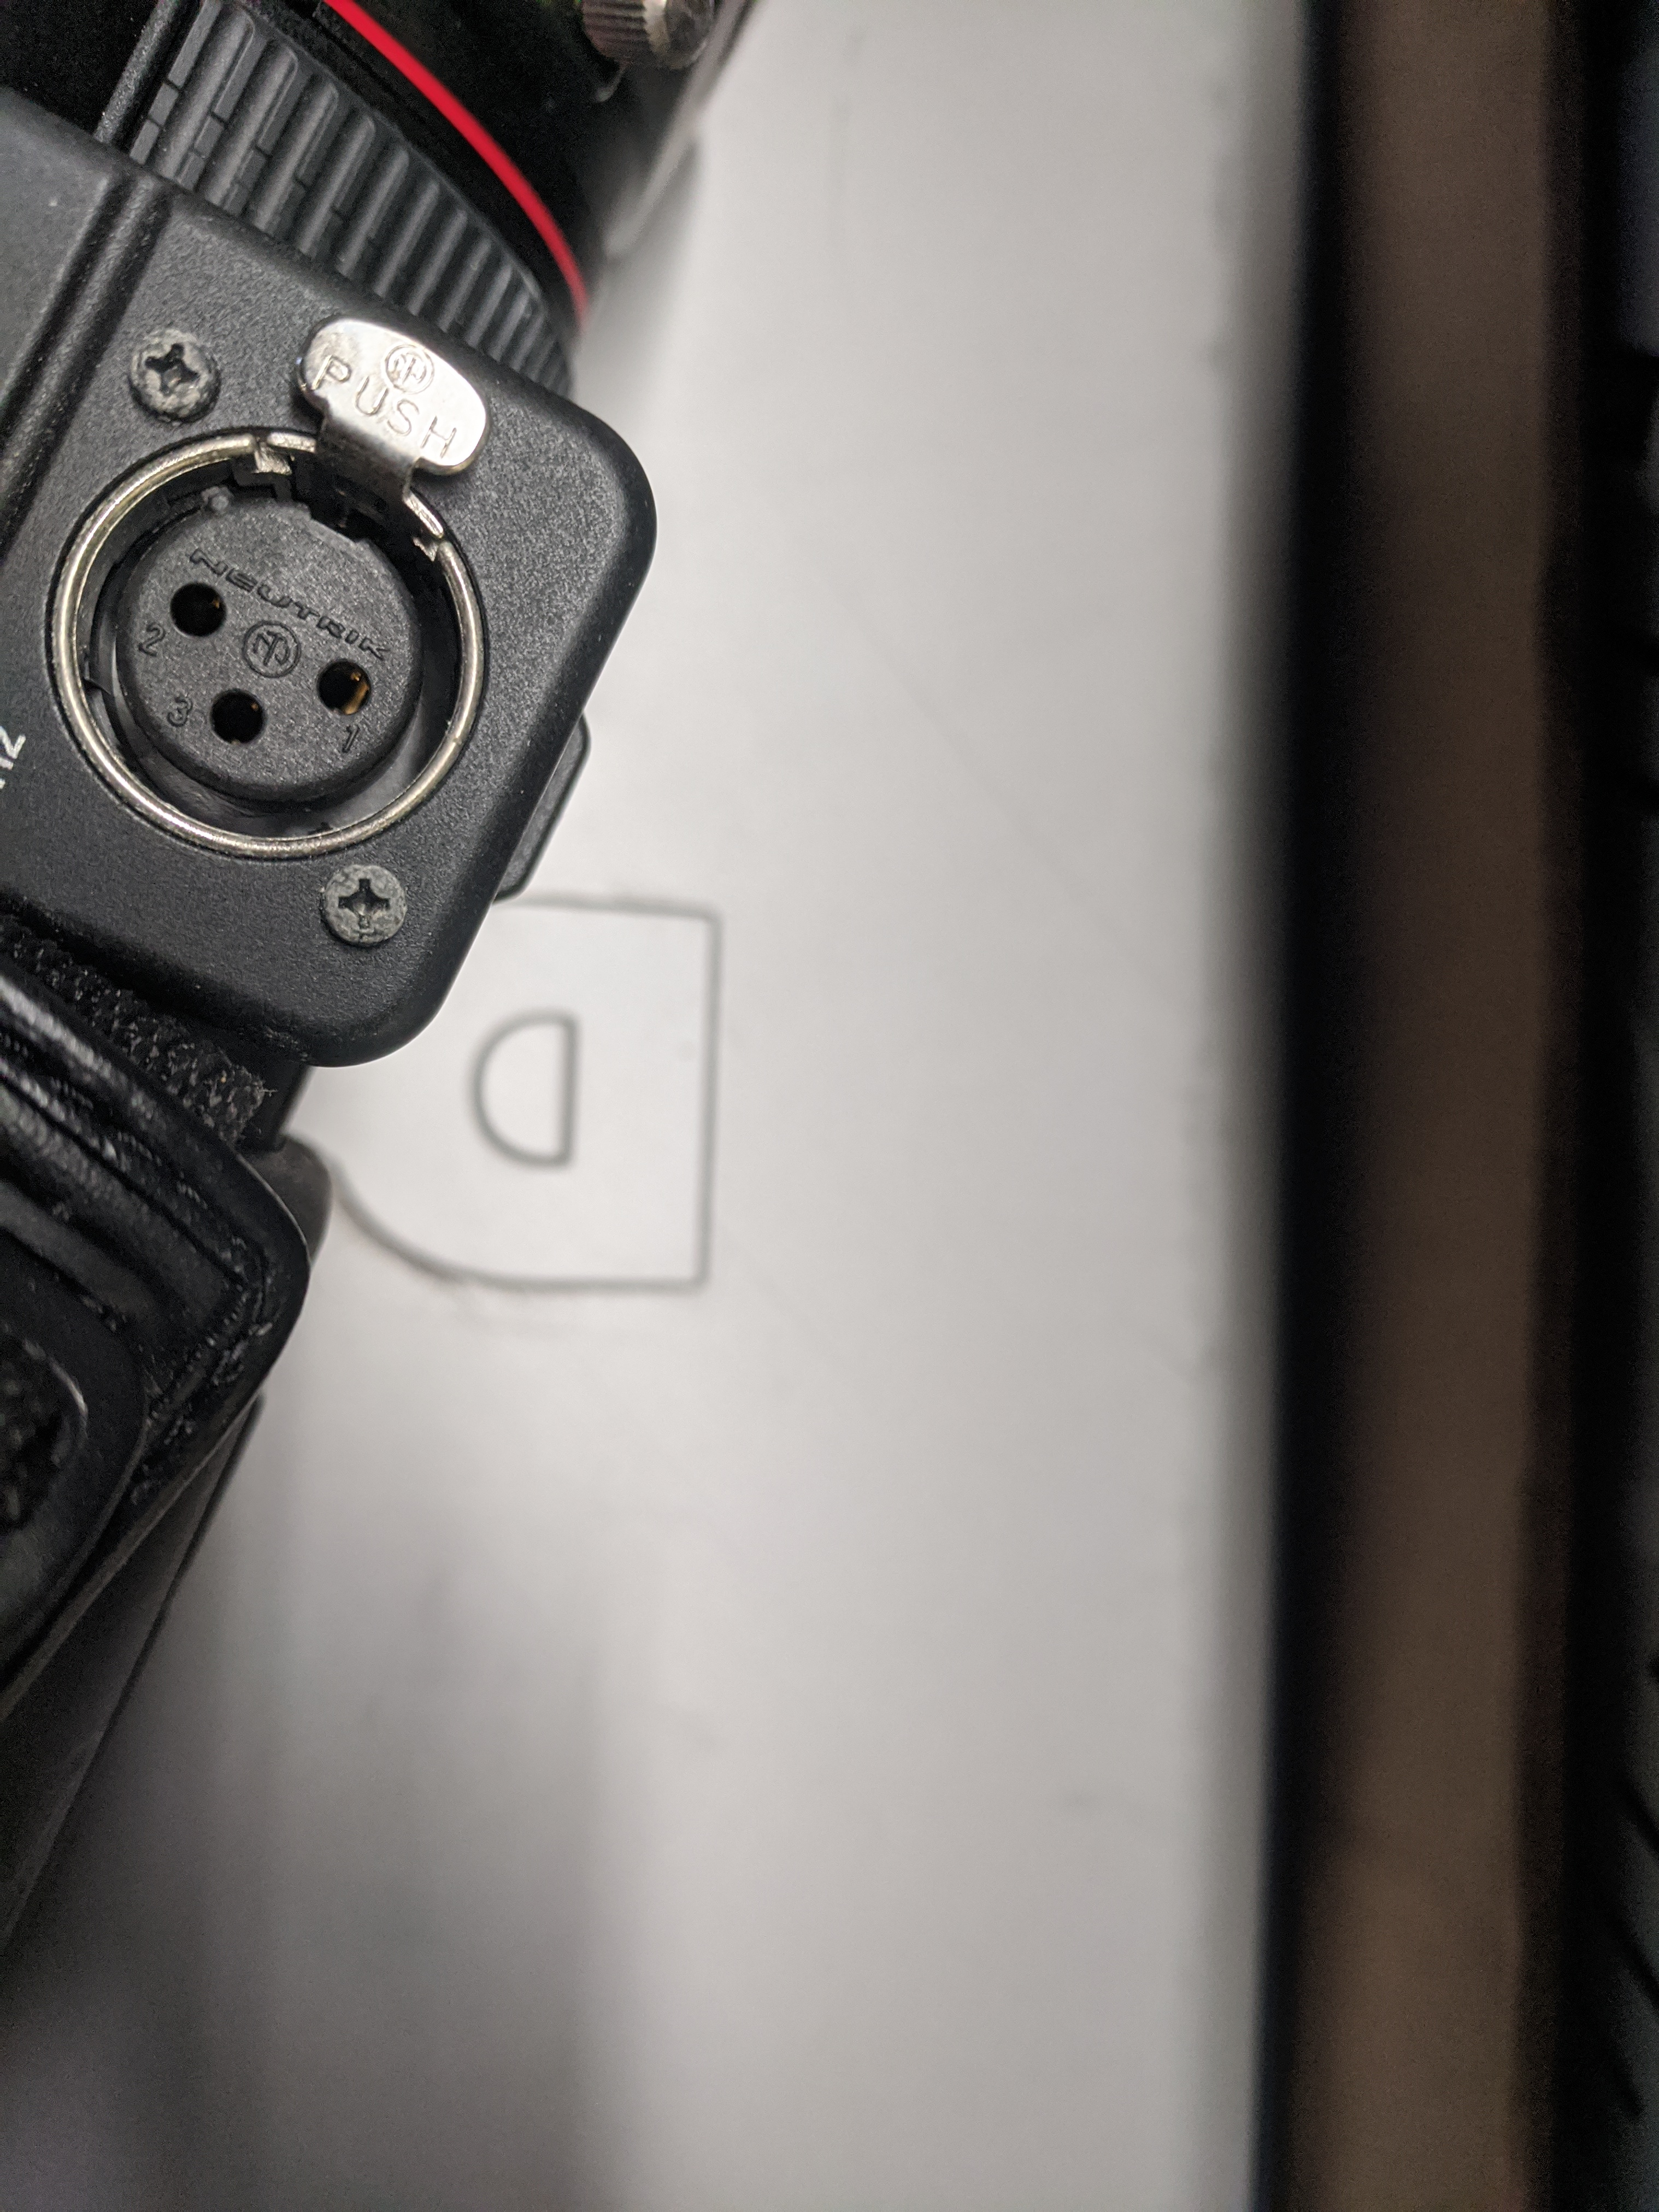cross_recessed_screw: (110, 310, 225, 416), (307, 840, 410, 956)
